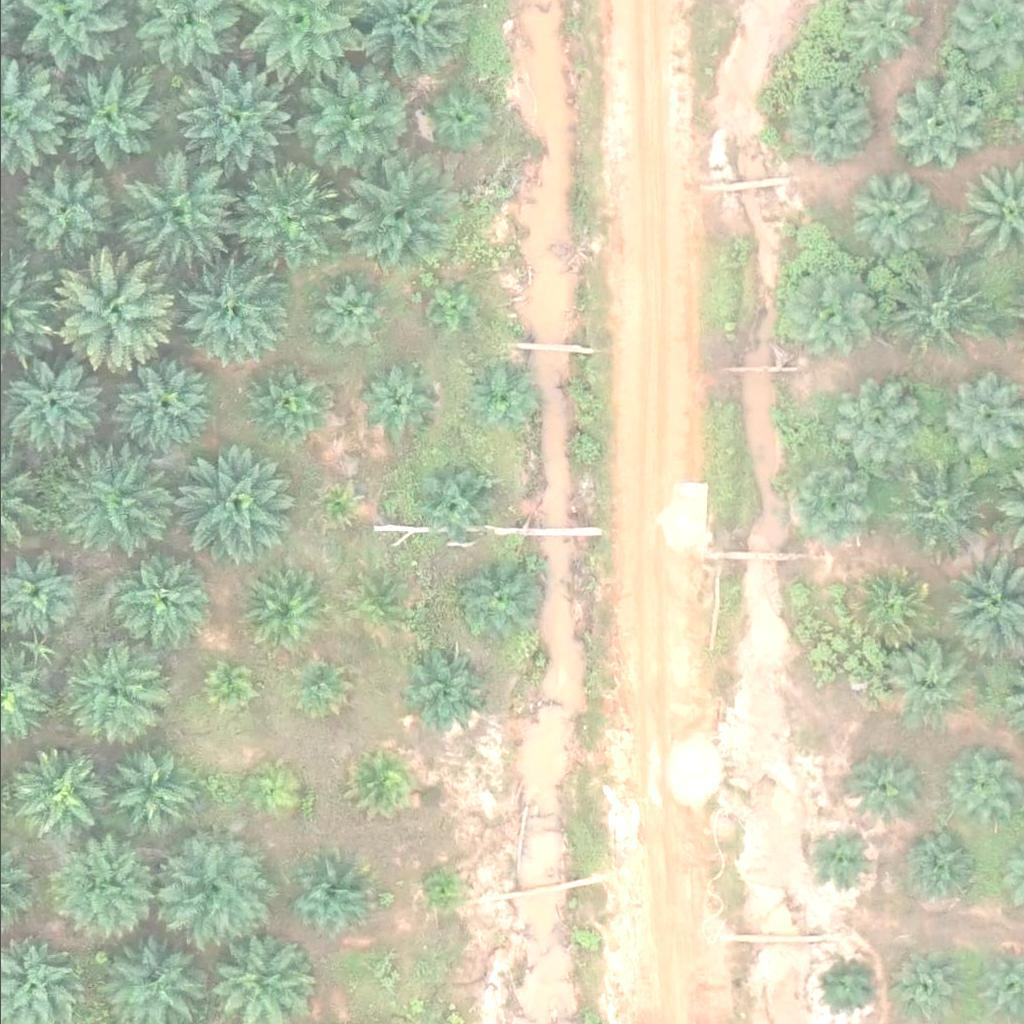Kelapa_Sawit: (181, 449, 295, 562), (56, 250, 170, 363), (176, 61, 290, 174), (222, 163, 335, 276), (339, 155, 452, 268), (294, 61, 407, 174), (158, 829, 272, 941), (116, 154, 230, 266), (48, 449, 161, 561), (174, 259, 287, 371), (55, 64, 168, 176), (870, 250, 983, 362), (46, 834, 147, 934), (113, 357, 214, 457), (889, 457, 990, 557), (9, 741, 109, 841), (60, 638, 160, 738), (112, 549, 212, 649), (19, 163, 119, 263), (770, 268, 870, 368), (890, 72, 990, 172), (287, 849, 375, 937), (106, 747, 194, 835), (410, 455, 498, 543), (243, 361, 331, 449), (844, 557, 932, 645), (794, 83, 882, 171), (830, 380, 919, 467), (454, 556, 542, 643), (239, 565, 327, 652), (877, 642, 965, 729), (785, 458, 873, 545), (841, 175, 929, 262), (398, 652, 474, 727), (356, 361, 432, 436), (904, 833, 980, 908), (938, 751, 1013, 826), (838, 749, 913, 824), (472, 363, 535, 426), (424, 85, 487, 148), (351, 752, 414, 815), (809, 822, 872, 885), (317, 284, 380, 346), (813, 955, 876, 1017), (345, 575, 408, 637), (244, 762, 295, 812), (202, 664, 252, 714), (294, 659, 344, 709), (425, 286, 475, 336), (422, 868, 460, 905), (322, 483, 359, 520), (371, 957, 397, 982)
